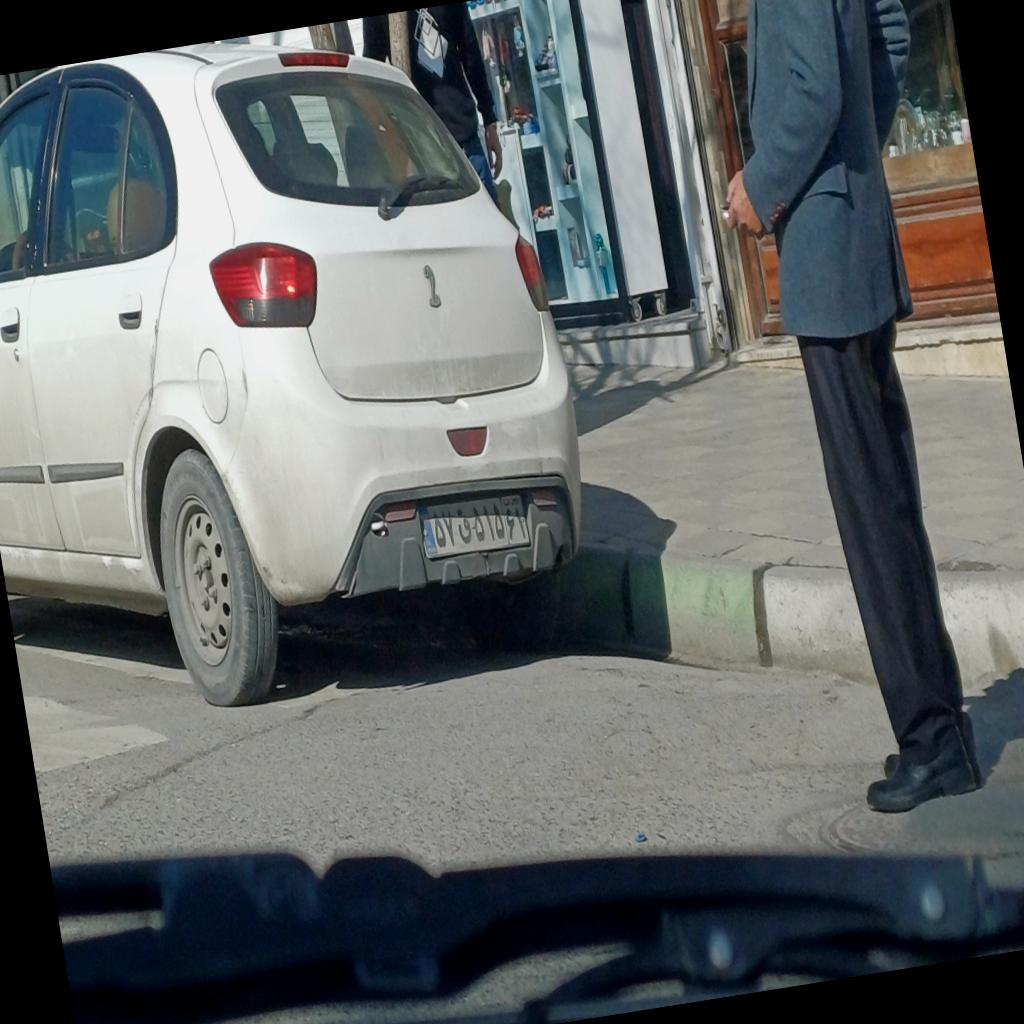Plates: (417, 491, 530, 558)
